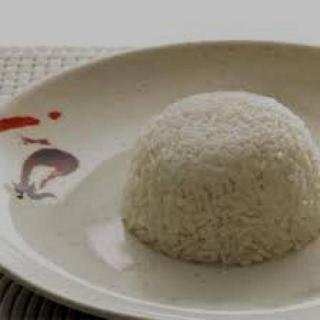Nasi: (120, 90, 320, 270)
